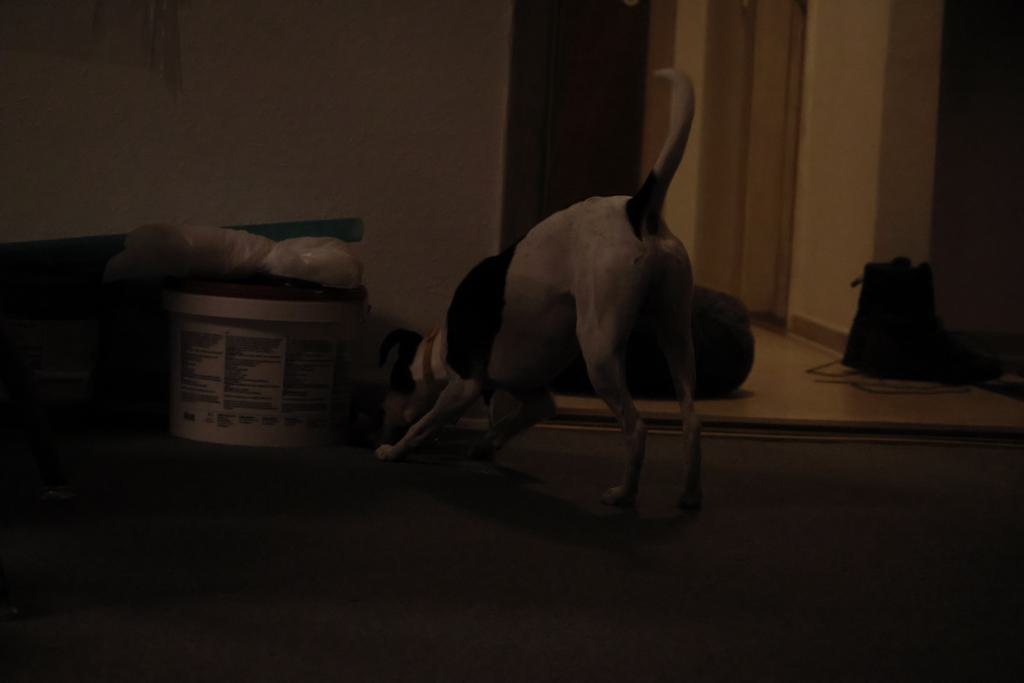Dog: (361, 51, 730, 527)
